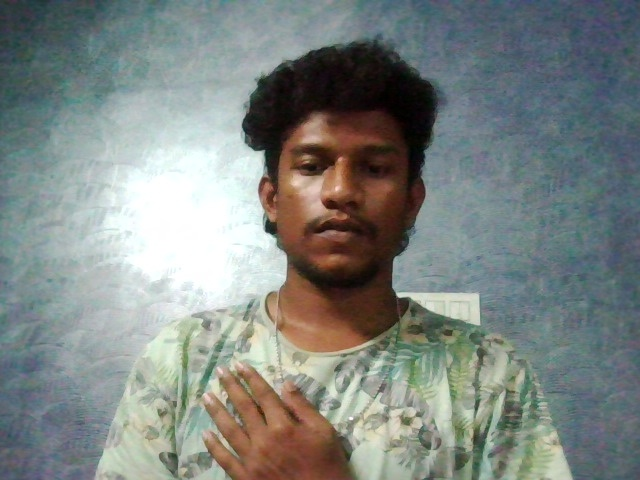please: (178, 361, 367, 480)
